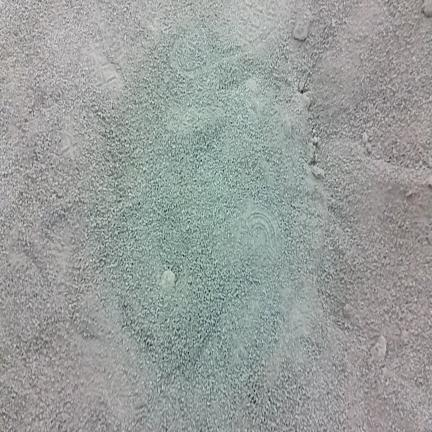Rock: (368, 336, 386, 364), (293, 20, 309, 40), (161, 270, 175, 290), (312, 166, 324, 179), (422, 0, 431, 17)
